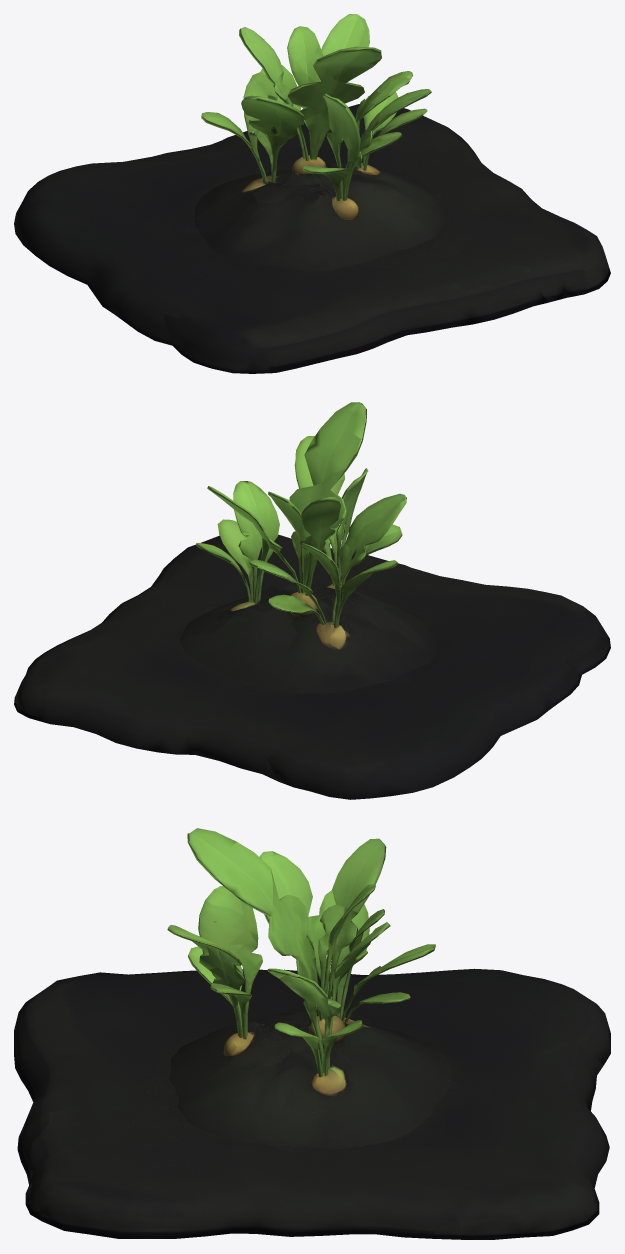
File: earth_apple_stage2.glb
3 renders of one model, top to bottom at view 1: azimuth 30°, elevation 25°; view 2: azimuth 150°, elevation 25°; view 3: azimuth 270°, elevation 25°, orthographic. The views are drawn at different scales.
Parts seen in each view (by area): view 1: mesh_node; view 2: mesh_node; view 3: mesh_node.
Part boxes in pixels (left/top/right/bottom): mesh_node: left=14, top=14, right=610, bottom=373; mesh_node: left=14, top=402, right=610, bottom=799; mesh_node: left=14, top=828, right=610, bottom=1239.
Bounding box in the file's own units: 1 × 0.5293 × 1.
Materials: 1 (1 with a texture image).
